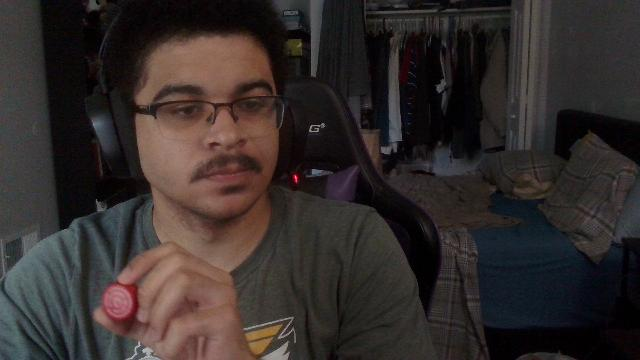cap: (102, 280, 140, 322)
